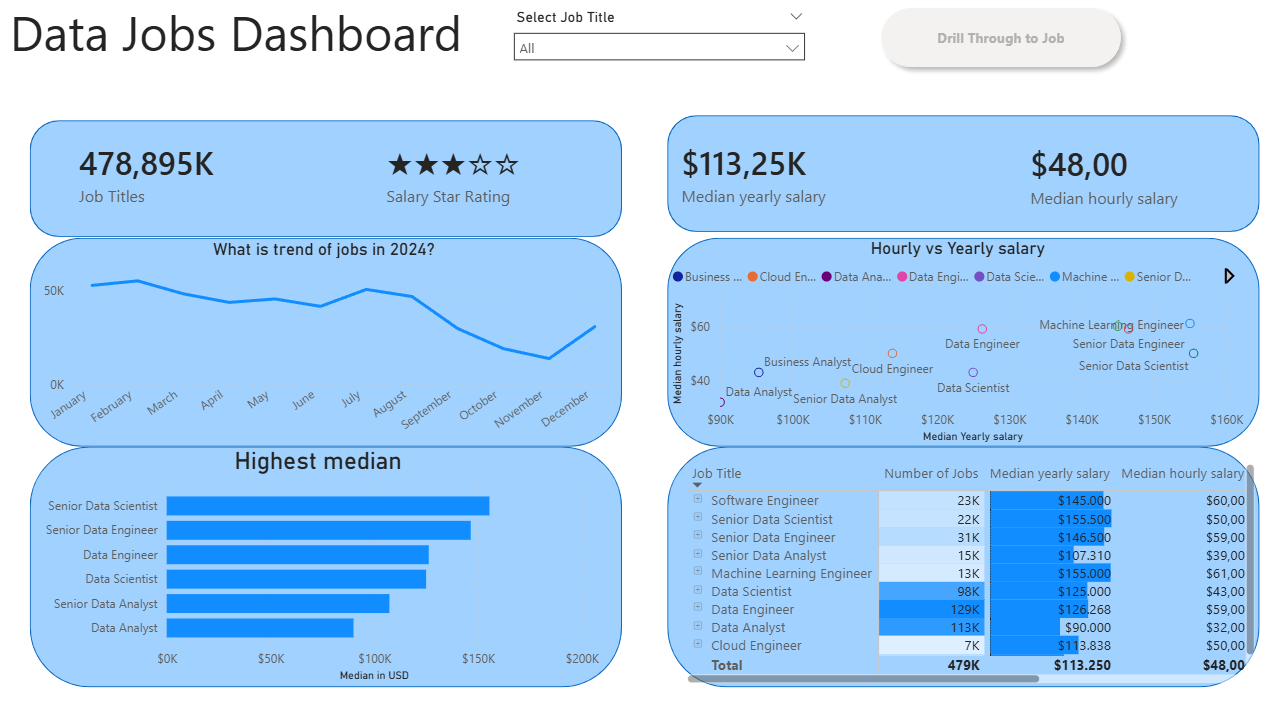

The page's visual inventory and layout, read from the dashboard file:
{"tool":"powerbi","page":{"name":"Dashboard","canvas":[1280,720],"ordinal":0},"visuals":[{"type":"group","id":"g1","title":"Background","box":[33,121.1,1224.1,569.8],"z":0},{"type":"shape","box":[33,126,589.4,116.2],"z":0,"group":"g1"},{"type":"textbox","box":[9.2,0,472.9,76.6],"z":1000},{"type":"shape","box":[667.7,121.1,589.4,116.2],"z":1000,"group":"g1"},{"type":"slicer","fields":{"Values":["job_postings_flat.job_title_short"]},"box":[505,9.7,310.3,66.8],"z":2000},{"type":"shape","box":[33,243.4,589.4,207.9],"z":2000,"group":"g1"},{"type":"cardVisual","fields":{"Data":["CountNonNull(job_postings_flat.job_title_short)"]},"box":[53.3,103.7,245.8,150.4],"z":3000},{"type":"shape","box":[33,451.3,589.4,239.7],"z":3000,"group":"g1"},{"type":"cardVisual","fields":{"Data":["job_postings_flat.Median of salary_year_avg star rating"]},"box":[359,103.7,245.8,150.4],"z":4000},{"type":"shape","box":[667.7,243.4,589.4,207.9],"z":4000,"group":"g1"},{"type":"cardVisual","fields":{"Data":["Median(job_postings_flat.salary_year_avg)"]},"box":[652.5,103.7,245.8,150.4],"z":5000},{"type":"shape","box":[667.7,451.3,589.4,239.7],"z":5000,"group":"g1"},{"type":"cardVisual","fields":{"Data":["Median(job_postings_flat.salary_hour_avg)"]},"box":[1000.3,103.9,245.8,150.4],"z":6000},{"type":"lineChart","title":"What is trend of jobs in 2024?","fields":{"Category":["job_postings_flat.job_posted_date.Variation.Date Hierarchy.Year","job_postings_flat.job_posted_date.Variation.Date Hierarchy.Quarter","job_postings_flat.job_posted_date.Variation.Date Hierarchy.Month","job_postings_flat.job_posted_date.Variation.Date Hierarchy.Day"],"Y":["CountNonNull(job_postings_flat.job_title_short)"]},"box":[33.4,243.5,585.7,208.7],"z":7000},{"type":"barChart","title":"Highest median","fields":{"Category":["job_postings_flat.job_title_short"],"Y":["Median(job_postings_flat.salary_year_avg)"]},"box":[36.2,450.8,569,239.3],"z":8000},{"type":"scatterChart","title":"Hourly vs Yearly salary","fields":{"Y":["Median(job_postings_flat.salary_hour_avg)"],"X":["Median(job_postings_flat.salary_year_avg)"],"Series":["job_postings_flat.job_title_short"]},"box":[667.7,242.1,578.4,209.1],"z":9000},{"type":"pivotTable","fields":{"Rows":["job_postings_flat.job_title_short","job_postings_flat.job_posted_date.Variation.Date Hierarchy.Quarter"],"Values":["CountNonNull(job_postings_flat.job_title_short)","Median(job_postings_flat.salary_year_avg)","Median(job_postings_flat.salary_hour_avg)","SparklineData(CountNonNull(job_postings_flat.job_title_short)_[job_postings_flat.job_posted_date.Variation.Date Hierarch"]},"box":[683.1,463.3,574.6,228.2],"z":10000},{"type":"actionButton","box":[871.8,5.3,256.3,76.6],"z":11000}]}

Visuals, with their boxes in screenshot pixels (x1, y1, x2, y2), scaled from the page's 1280x720 canvas onto the 1275x713 screenshot:
"Background" group: bbox=[33, 120, 1252, 684]
shape: bbox=[33, 125, 620, 240]
textbox: bbox=[9, 0, 480, 76]
shape: bbox=[665, 120, 1252, 235]
slicer - job_postings_flat.job_title_short: bbox=[503, 10, 812, 76]
shape: bbox=[33, 241, 620, 447]
cardVisual - CountNonNull(job_postings_flat.job_title_short): bbox=[53, 103, 298, 252]
shape: bbox=[33, 447, 620, 684]
cardVisual - job_postings_flat.Median of salary_year_avg star rating: bbox=[358, 103, 602, 252]
shape: bbox=[665, 241, 1252, 447]
cardVisual - Median(job_postings_flat.salary_year_avg): bbox=[650, 103, 895, 252]
shape: bbox=[665, 447, 1252, 684]
cardVisual - Median(job_postings_flat.salary_hour_avg): bbox=[996, 103, 1241, 252]
"What is trend of jobs in 2024?" lineChart: bbox=[33, 241, 617, 448]
"Highest median" barChart: bbox=[36, 446, 603, 683]
"Hourly vs Yearly salary" scatterChart: bbox=[665, 240, 1241, 447]
pivotTable - job_postings_flat.job_title_short x job_postings_flat.job_posted_date.Variation.Date Hierarchy.Quarter: bbox=[680, 459, 1253, 685]
actionButton: bbox=[868, 5, 1124, 81]
